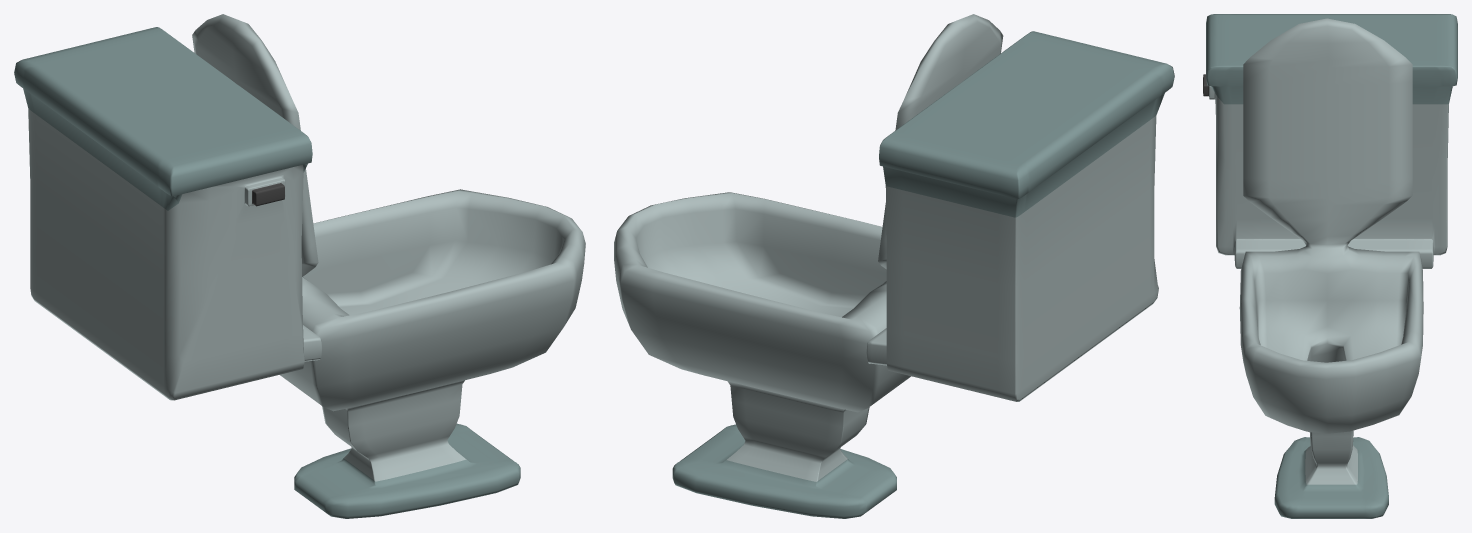
Rendered from toilet2.fbx.
The picture shows the model from 3 angles, left to right: view 1: azimuth 30°, elevation 25°; view 2: azimuth 150°, elevation 25°; view 3: azimuth 270°, elevation 25°; orthographic projection. The views are drawn at different scales.
Visible parts, largest first — view 1: pCube19; view 2: pCube19; view 3: pCube19.
Boxes of the visible parts, bbox=[...] form: pCube19: bbox=[14, 14, 585, 518]; pCube19: bbox=[614, 14, 1174, 518]; pCube19: bbox=[1203, 14, 1457, 518].
Bounding box in the file's own units: 3.64 × 3.66 × 2.1.
